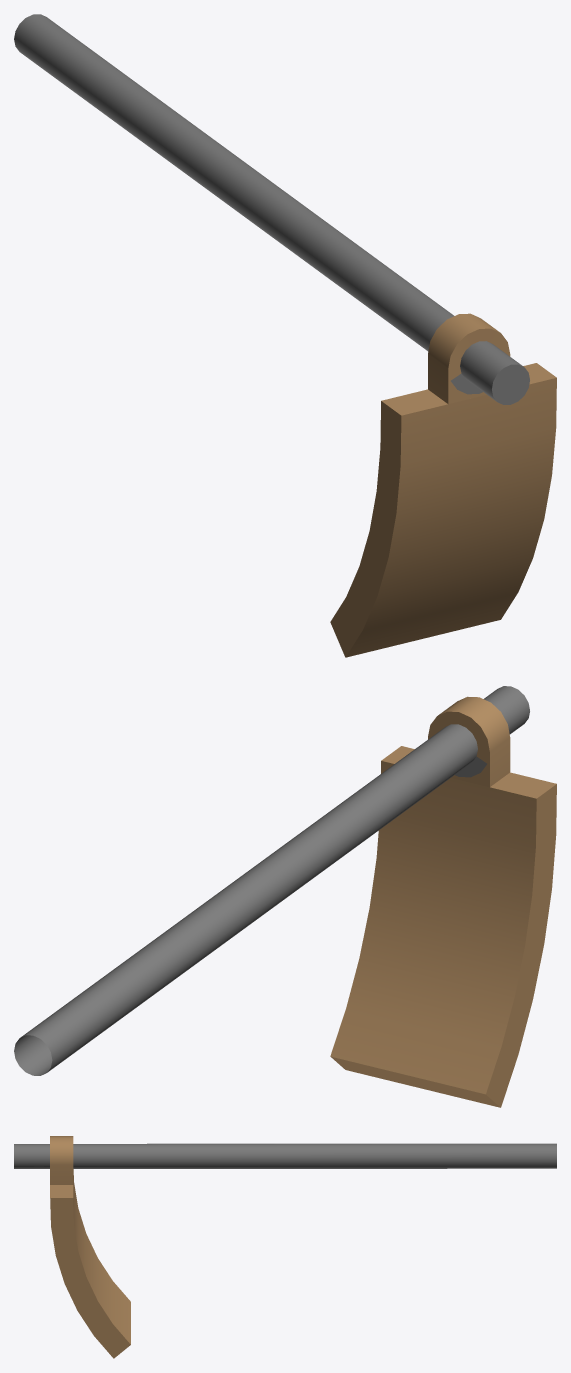
File: hoe_01.fbx
3 renders of one model, top to bottom at view 1: azimuth 30°, elevation 25°; view 2: azimuth 150°, elevation 25°; view 3: azimuth 270°, elevation 25°, orthographic. The views are drawn at different scales.
Visible parts, largest first — view 1: hoe_01; view 2: hoe_01; view 3: hoe_01.
Part boxes in pixels (x1,y1,x2,y2): hoe_01: (14, 14, 556, 657); hoe_01: (14, 686, 556, 1107); hoe_01: (14, 1136, 556, 1358).
Size of the model in its own units: 16.8 by 36.19 by 89.38.
